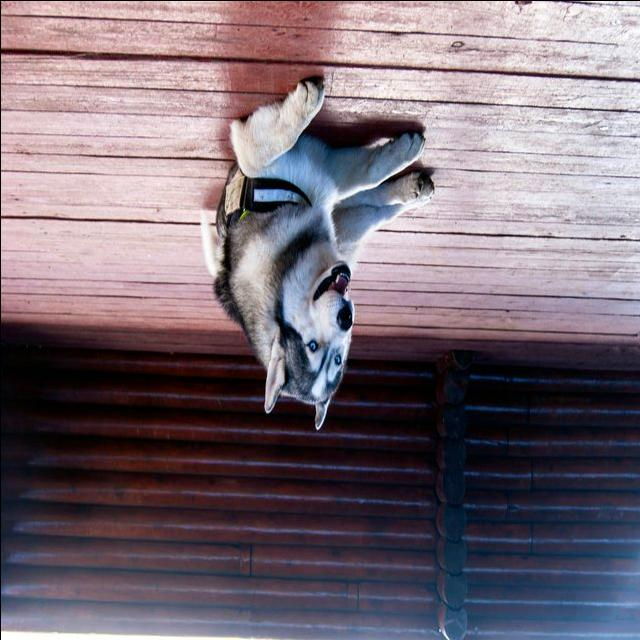husky: (197, 76, 434, 431)
